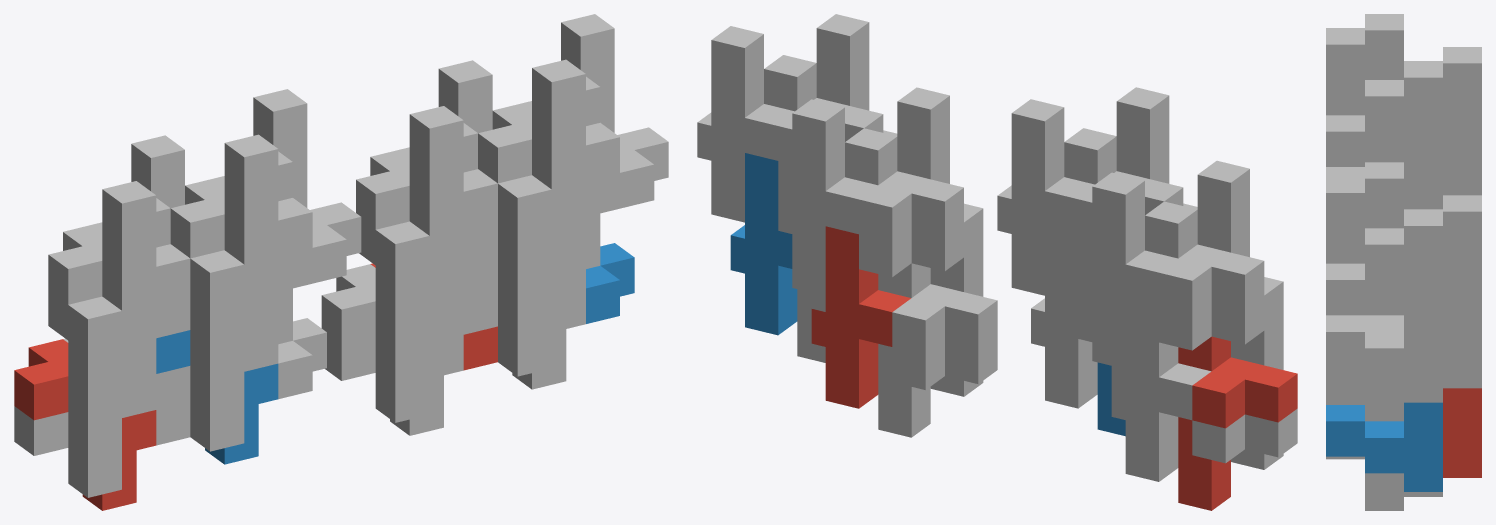
The model's file is tiling.obj.
3 renders of one model, left to right at view 1: azimuth 30°, elevation 25°; view 2: azimuth 150°, elevation 25°; view 3: azimuth 270°, elevation 25°, orthographic. The views are drawn at different scales.
Parts seen in each view (by area): view 1: copy_3_domain_1, copy_3_domain_5, copy_3_domain_2, copy_3_domain_6, copy_3_domain_3, copy_3_domain_7, copy_3_domain_4, copy_3_domain_8, copy_2_domain_4, copy_2_domain_8, copy_1_domain_4, copy_1_domain_8 (+12 smaller); view 2: copy_2_domain_4, copy_2_domain_8, copy_2_domain_3, copy_2_domain_7, copy_2_domain_1, copy_2_domain_5, copy_1_domain_5, copy_1_domain_1, copy_3_domain_3, copy_3_domain_7, copy_1_domain_3, copy_2_domain_6 (+10 smaller); view 3: copy_2_domain_8, copy_2_domain_6, copy_2_domain_7, copy_2_domain_4, copy_2_domain_3, copy_3_domain_8, copy_3_domain_4, copy_1_domain_8, copy_2_domain_5, copy_1_domain_4, copy_3_domain_7, copy_3_domain_3 (+3 smaller).
Part boxes in pixels (<box>): copy_3_domain_1: <box>14,296,156,497</box>; copy_3_domain_5: <box>325,221,463,422</box>; copy_3_domain_2: <box>156,250,278,451</box>; copy_3_domain_6: <box>463,175,585,376</box>; copy_3_domain_3: <box>48,181,190,382</box>; copy_3_domain_7: <box>359,106,497,307</box>; copy_3_domain_4: <box>224,134,312,335</box>; copy_3_domain_8: <box>532,59,619,260</box>; copy_2_domain_4: <box>219,89,361,283</box>; copy_2_domain_8: <box>527,14,668,208</box>; copy_1_domain_4: <box>170,151,312,344</box>; copy_1_domain_8: <box>478,76,619,268</box>; copy_2_domain_4: <box>997,99,1094,295</box>; copy_2_domain_8: <box>697,26,794,222</box>; copy_2_domain_3: <box>1078,172,1177,368</box>; copy_2_domain_7: <box>778,99,877,295</box>; copy_2_domain_1: <box>1111,299,1211,481</box>; copy_2_domain_5: <box>811,226,910,408</box>; copy_1_domain_5: <box>878,263,997,437</box>; copy_1_domain_1: <box>1178,336,1297,510</box>; copy_3_domain_3: <box>1159,160,1264,350</box>; copy_3_domain_7: <box>859,87,963,277</box>; copy_1_domain_3: <box>1145,201,1264,315</box>; copy_2_domain_6: <box>730,153,797,335</box>; copy_2_domain_8: <box>1326,209,1442,402</box>; copy_2_domain_6: <box>1326,402,1442,491</box>; copy_2_domain_7: <box>1443,195,1481,388</box>; copy_2_domain_4: <box>1326,61,1442,209</box>; copy_2_domain_3: <box>1443,47,1481,195</box>; copy_3_domain_8: <box>1326,176,1364,369</box>; copy_3_domain_4: <box>1326,28,1364,166</box>; copy_1_domain_8: <box>1365,228,1403,421</box>; copy_2_domain_5: <box>1443,388,1481,477</box>; copy_1_domain_4: <box>1365,80,1403,162</box>; copy_3_domain_7: <box>1365,162,1403,228</box>; copy_3_domain_3: <box>1365,14,1403,79</box>.
Bounding box in the file's own units: 18 × 10 × 4.
